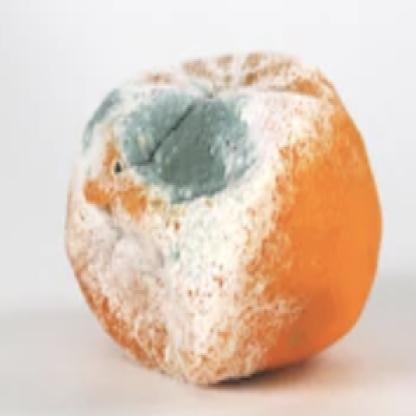rotten: (65, 54, 382, 385)
